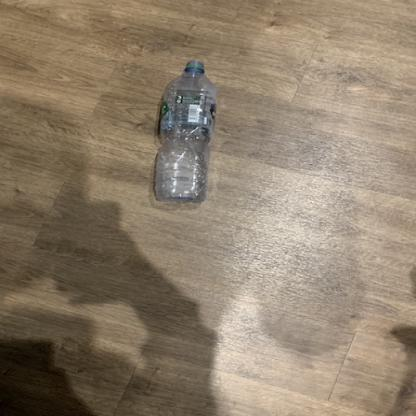trash: (152, 59, 218, 203)
